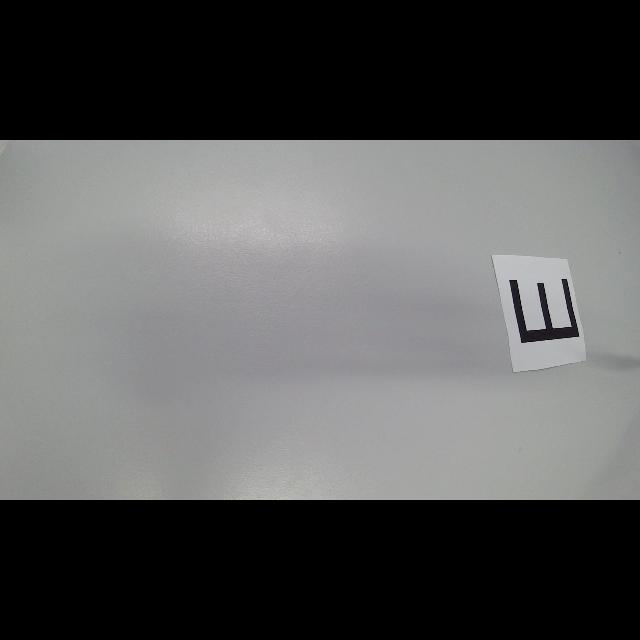FAKE: (508, 278, 580, 344)
